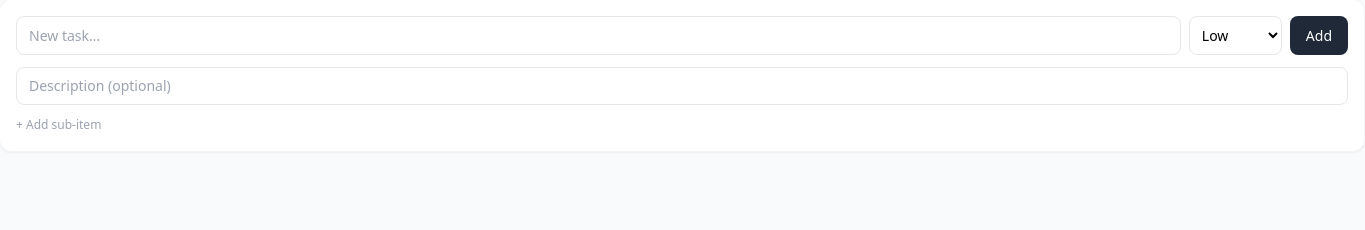
Test: TaskForm — children › shows a child input row when add child is clicked
The width and height of the screenshot is (1365, 230).
Click the button with test id "add-child" at (59, 125), box [16,117,101,133]
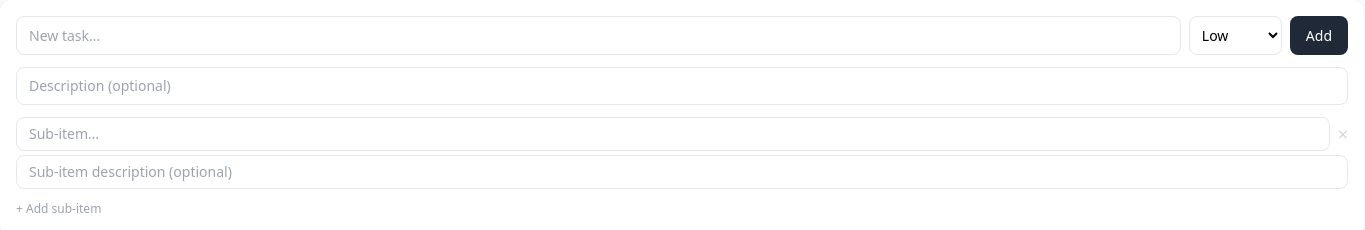
Expected: the field with test id "child-input-0" is shown, [16,117,1330,151]
